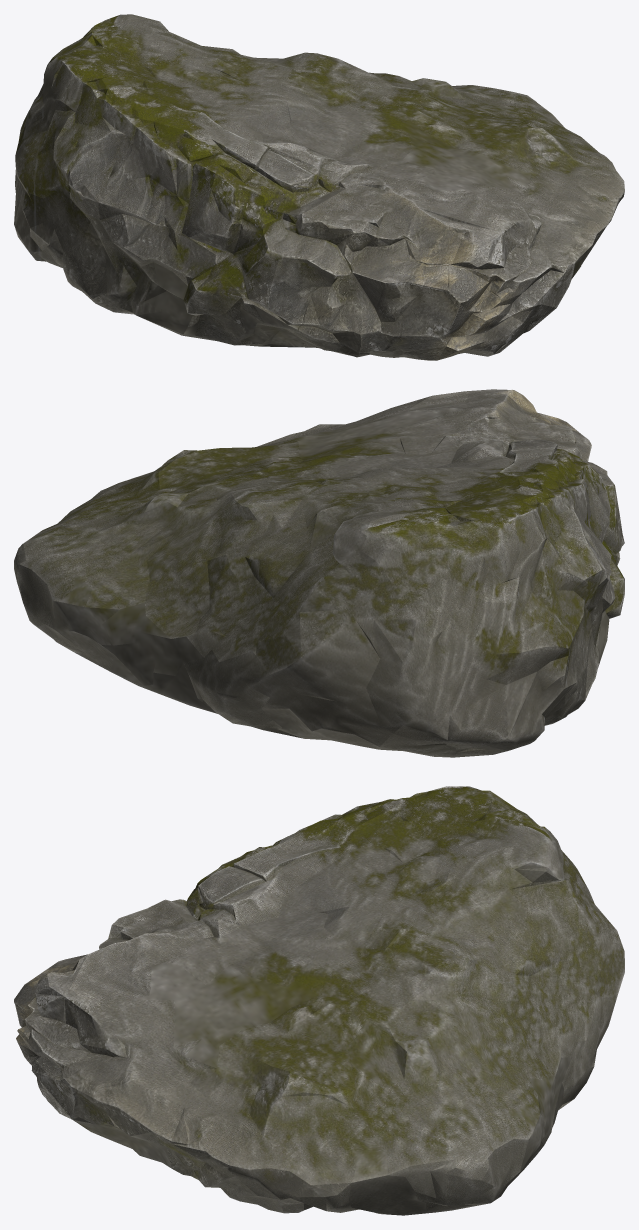
Rendered from mossy-boulder-4.glb.
3 views of the same model, one above another, from view 1: azimuth 30°, elevation 25°; view 2: azimuth 150°, elevation 25°; view 3: azimuth 270°, elevation 25° (orthographic). The views are drawn at different scales.
Parts seen in each view (by area): view 1: output_unwrapped; view 2: output_unwrapped; view 3: output_unwrapped.
Boxes of the visible parts, x1,y1,x2,y2 form: output_unwrapped: [14, 14, 624, 360]; output_unwrapped: [14, 389, 624, 757]; output_unwrapped: [14, 786, 624, 1215].
Size of the model in its own units: 1 by 0.3911 by 0.9991.
Materials: 1 (1 with a texture image).
